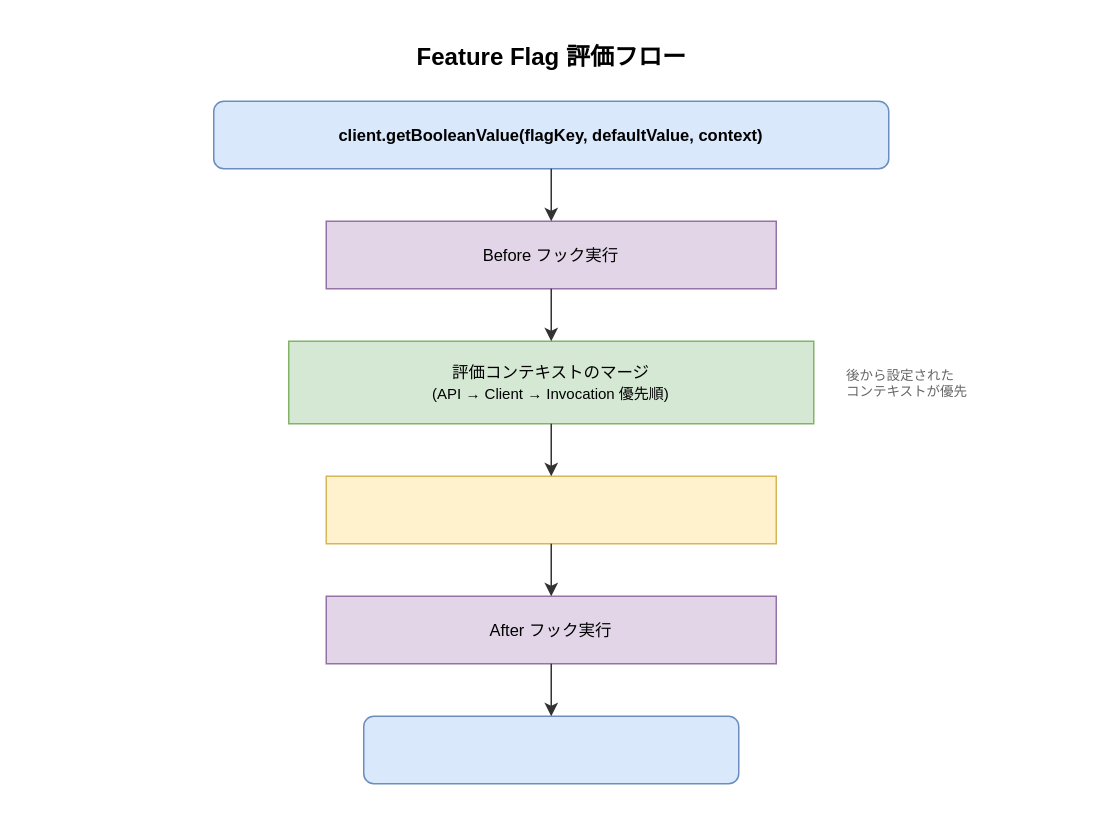
Some shapes in this 1101 by 831 pixel diagram are drawn without their labels. The shapes that lost their labels are listed below. From the top down, each one's centre as x and y in pixels, then its label:
the point at 550,509: プロバイダーがフラグを評価
the point at 550,749: 評価結果を返却
